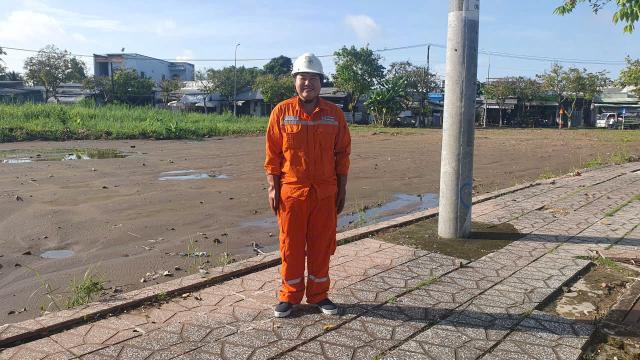gloves: (258, 175, 289, 220), (332, 162, 352, 223)
helmet: (276, 47, 336, 85)
shoes: (310, 289, 353, 326), (266, 286, 304, 320)
